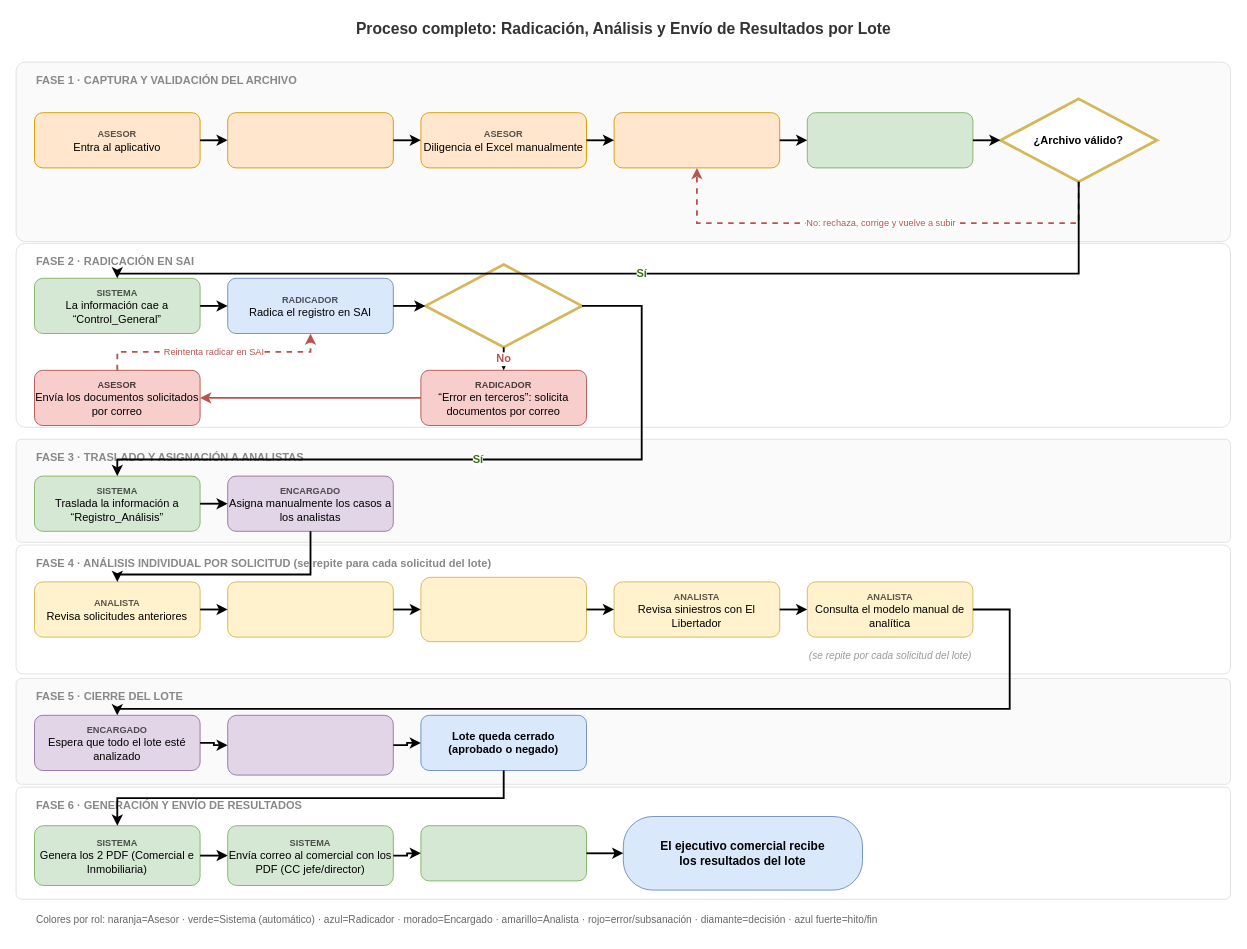
Image size: 1247x949. Some labels were removed from this diagram. The shapes that lost their labels are listed below. From the top down, each one's centre as x and y in pixels, then its label:
point 310,140: ASESOR Descarga el Excel (plantilla)
point 696,140: ASESOR Sube el archivo diligenciado
point 889,140: SISTEMA Valida automáticamente el archivo (formato y campos)
point 503,305: ¿El nombre coincide con SAI?
point 310,609: ANALISTA Revisa la dirección (address)
point 503,609: ANALISTA Consulta preselecta (DataCrédito): ingresos, aciertos y moras
point 310,744: ENCARGADO Corre el modelo de analítica de lote
point 503,853: SISTEMA Registra el envío
